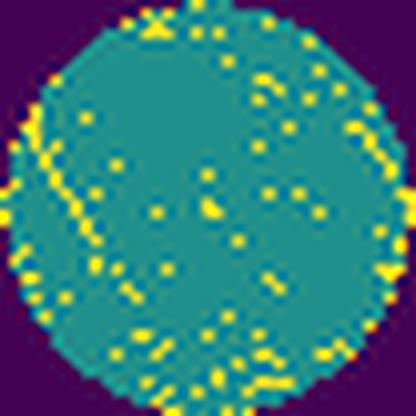Scratch: (17, 101, 106, 249)
